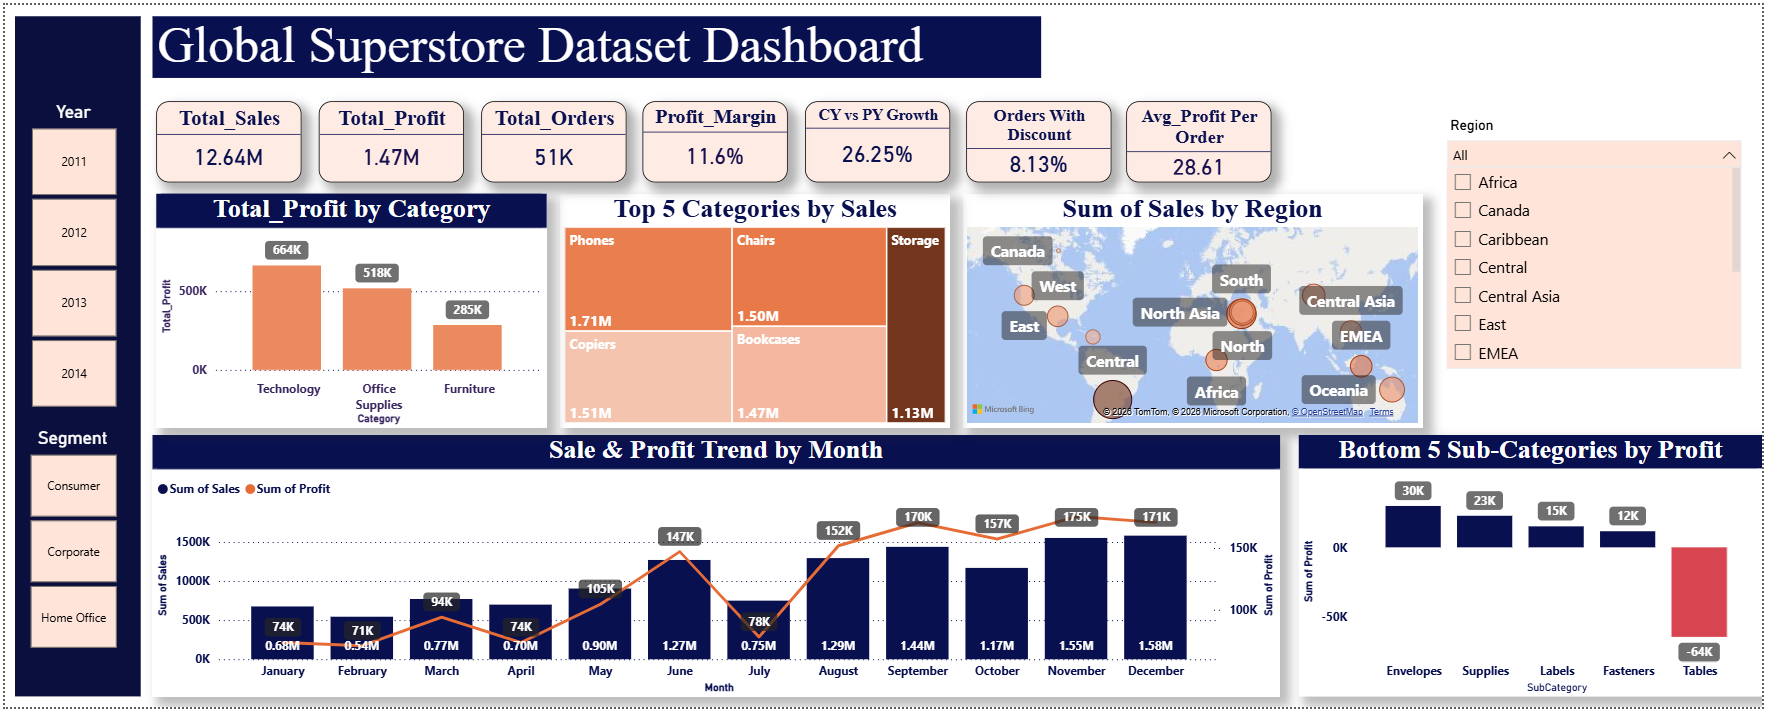

What the dashboard file says about the page in this screenshot:
{"tool":"powerbi","page":{"name":"Dashboard_Pg1","canvas":[1800,720],"ordinal":0},"visuals":[{"type":"card","title":"Total_Sales","fields":{"Values":["Measures_Table.Total_Sales"]},"box":[155.1,98.2,148.6,82.9],"z":0},{"type":"card","title":"Total_Orders","fields":{"Values":["Measures_Table.Total_Orders"]},"box":[487.3,98.2,148.6,82.9],"z":1000},{"type":"lineStackedColumnComboChart","title":"Sale & Profit Trend by Month","fields":{"Y":["Sum(superstore.Sales)"],"Y2":["Sum(superstore.Profit)"],"Category":["superstore.OrderDate.Variation.Date Hierarchy.Year","superstore.OrderDate.Variation.Date Hierarchy.Quarter","superstore.OrderDate.Variation.Date Hierarchy.Month","superstore.OrderDate.Variation.Date Hierarchy.Day"]},"box":[151.7,440,1155,268.3],"z":2000},{"type":"map","fields":{"Category":["superstore.Region"],"Size":["Sum(superstore.Sales)"]},"box":[981.3,193.3,471.7,240],"z":3000},{"type":"textbox","title":"Global Superstore Dataset Dashboard","box":[151.7,11.7,910,63.3],"z":4000},{"type":"treemap","title":"Top 5 Categories by Sales","fields":{"Group":["superstore.SubCategory"],"Values":["Sum(superstore.Sales)"]},"box":[568,193.3,400,240],"z":5000},{"type":"clusteredColumnChart","fields":{"Category":["superstore.Category"],"Y":["Measure Table.Total_Profit"]},"box":[154.7,193.1,400,240],"z":6000},{"type":"card","title":"CY vs PY Growth ","fields":{"Values":["Measure Table.Current yr vs prior Year Growth %"]},"box":[819.4,98.2,148.6,82.9],"z":7000},{"type":"textbox","box":[10,11.4,128.6,697.1],"z":8000},{"type":"columnChart","title":"Bottom 5 Sub-Categories by Profit","fields":{"Category":["superstore.SubCategory"],"Y":["Sum(superstore.Profit)"]},"box":[1325,440,475,268.3],"z":9000},{"type":"slicer","title":"Segment","fields":{"Values":["superstore.Segment"]},"box":[0,432.9,138.6,232.9],"z":10000},{"type":"card","title":"Orders With Discount","fields":{"Values":["Measure Table.% Orders_with_discount"]},"box":[984.3,98.6,148.6,82.9],"z":11000},{"type":"slicer","title":"Year","fields":{"Values":["superstore.Year"]},"box":[1.4,98.6,137.1,320],"z":12000},{"type":"card","title":"Avg_Profit Per Order","fields":{"Values":["Measure Table.Avg_Profit_Per_Order"]},"box":[1148.6,98.6,148.6,82.9],"z":13000},{"type":"card","title":"Total_Profit","fields":{"Values":["Measures_Table.Total_Profit"]},"box":[321.2,98.2,148.6,82.9],"z":14000},{"type":"card","title":"Profit_Margin","fields":{"Values":["Measures_Table.Profit_Margin"]},"box":[653.4,98.2,148.6,82.9],"z":15000},{"type":"slicer","fields":{"Values":["superstore.Region"]},"box":[1467.1,110,321.4,82.9],"z":16000}]}

Visuals, with their boxes in screenshot pixels (x1, y1, x2, y2), scaled from the page's 1800x720 canvas onto the 1767x713 screenshot:
"Total_Sales" card: select_region(152, 97, 298, 179)
"Total_Orders" card: select_region(478, 97, 624, 179)
"Sale & Profit Trend by Month" lineStackedColumnComboChart: select_region(149, 436, 1283, 701)
map - superstore.Region x Sum(superstore.Sales): select_region(963, 191, 1426, 429)
"Global Superstore Dataset Dashboard" textbox: select_region(149, 12, 1042, 74)
"Top 5 Categories by Sales" treemap: select_region(558, 191, 950, 429)
clusteredColumnChart - superstore.Category x Measure Table.Total_Profit: select_region(152, 191, 545, 429)
"CY vs PY Growth " card: select_region(804, 97, 950, 179)
textbox: select_region(10, 11, 136, 702)
"Bottom 5 Sub-Categories by Profit" columnChart: select_region(1301, 436, 1766, 701)
"Segment" slicer: select_region(0, 429, 136, 659)
"Orders With Discount" card: select_region(966, 98, 1112, 180)
"Year" slicer: select_region(1, 98, 136, 415)
"Avg_Profit Per Order" card: select_region(1128, 98, 1273, 180)
"Total_Profit" card: select_region(315, 97, 461, 179)
"Profit_Margin" card: select_region(641, 97, 787, 179)
slicer - superstore.Region: select_region(1440, 109, 1756, 191)
